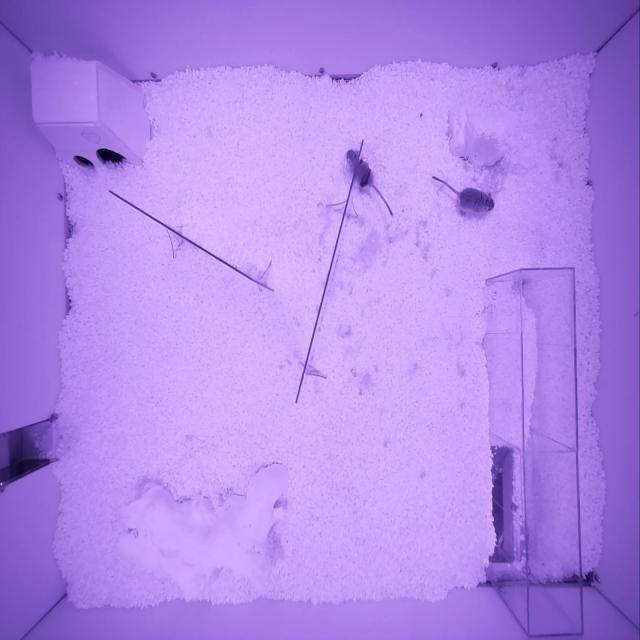pup_fluffy: (458, 187, 494, 215)
pup_h_stripe: (346, 149, 374, 193)
